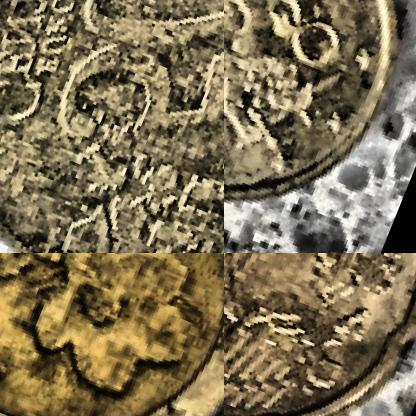coin: (0, 0, 223, 252), (224, 0, 415, 243), (0, 253, 223, 415), (224, 253, 415, 415)
